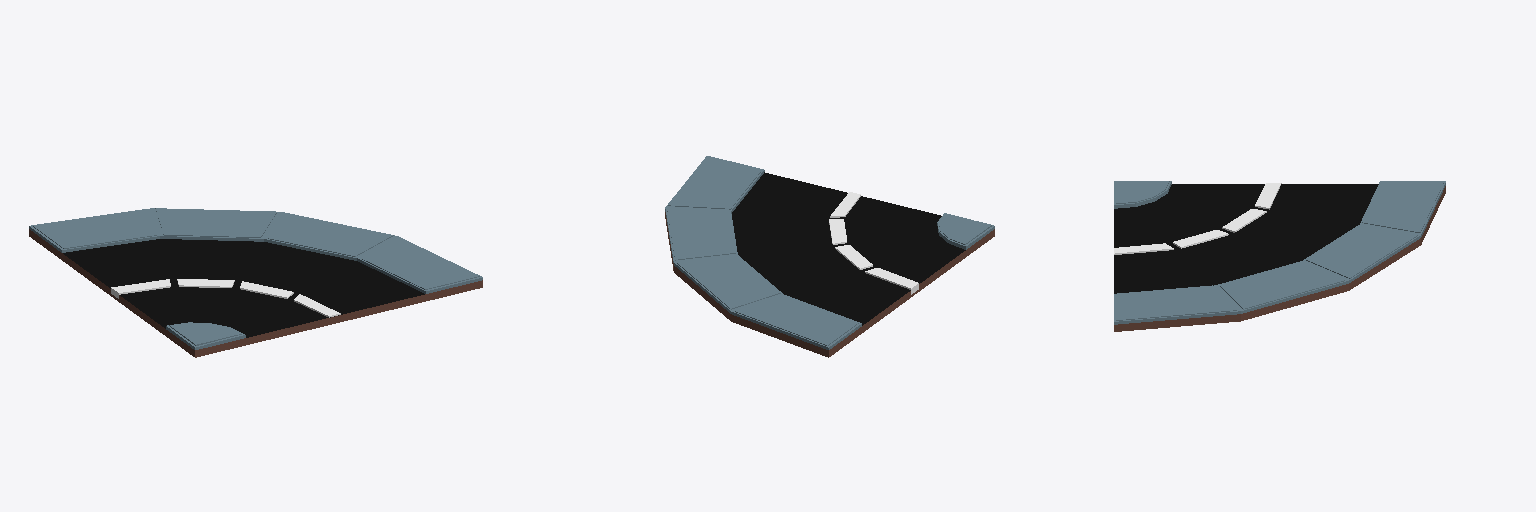
Rendered from Road_Curved_01.obj.
The picture shows the model from 3 angles: view 1: azimuth 30°, elevation 25°; view 2: azimuth 150°, elevation 25°; view 3: azimuth 270°, elevation 25°; orthographic projection.
Visible parts, largest first — view 1: Circle.002_Circle.011; view 2: Circle.002_Circle.011; view 3: Circle.002_Circle.011.
Part boxes in pixels (x1,y1,x2,y2): Circle.002_Circle.011: (29, 208, 482, 357); Circle.002_Circle.011: (665, 156, 994, 357); Circle.002_Circle.011: (1114, 181, 1445, 331).
Bounding box in the file's own units: 20.01 × 0.7734 × 20.